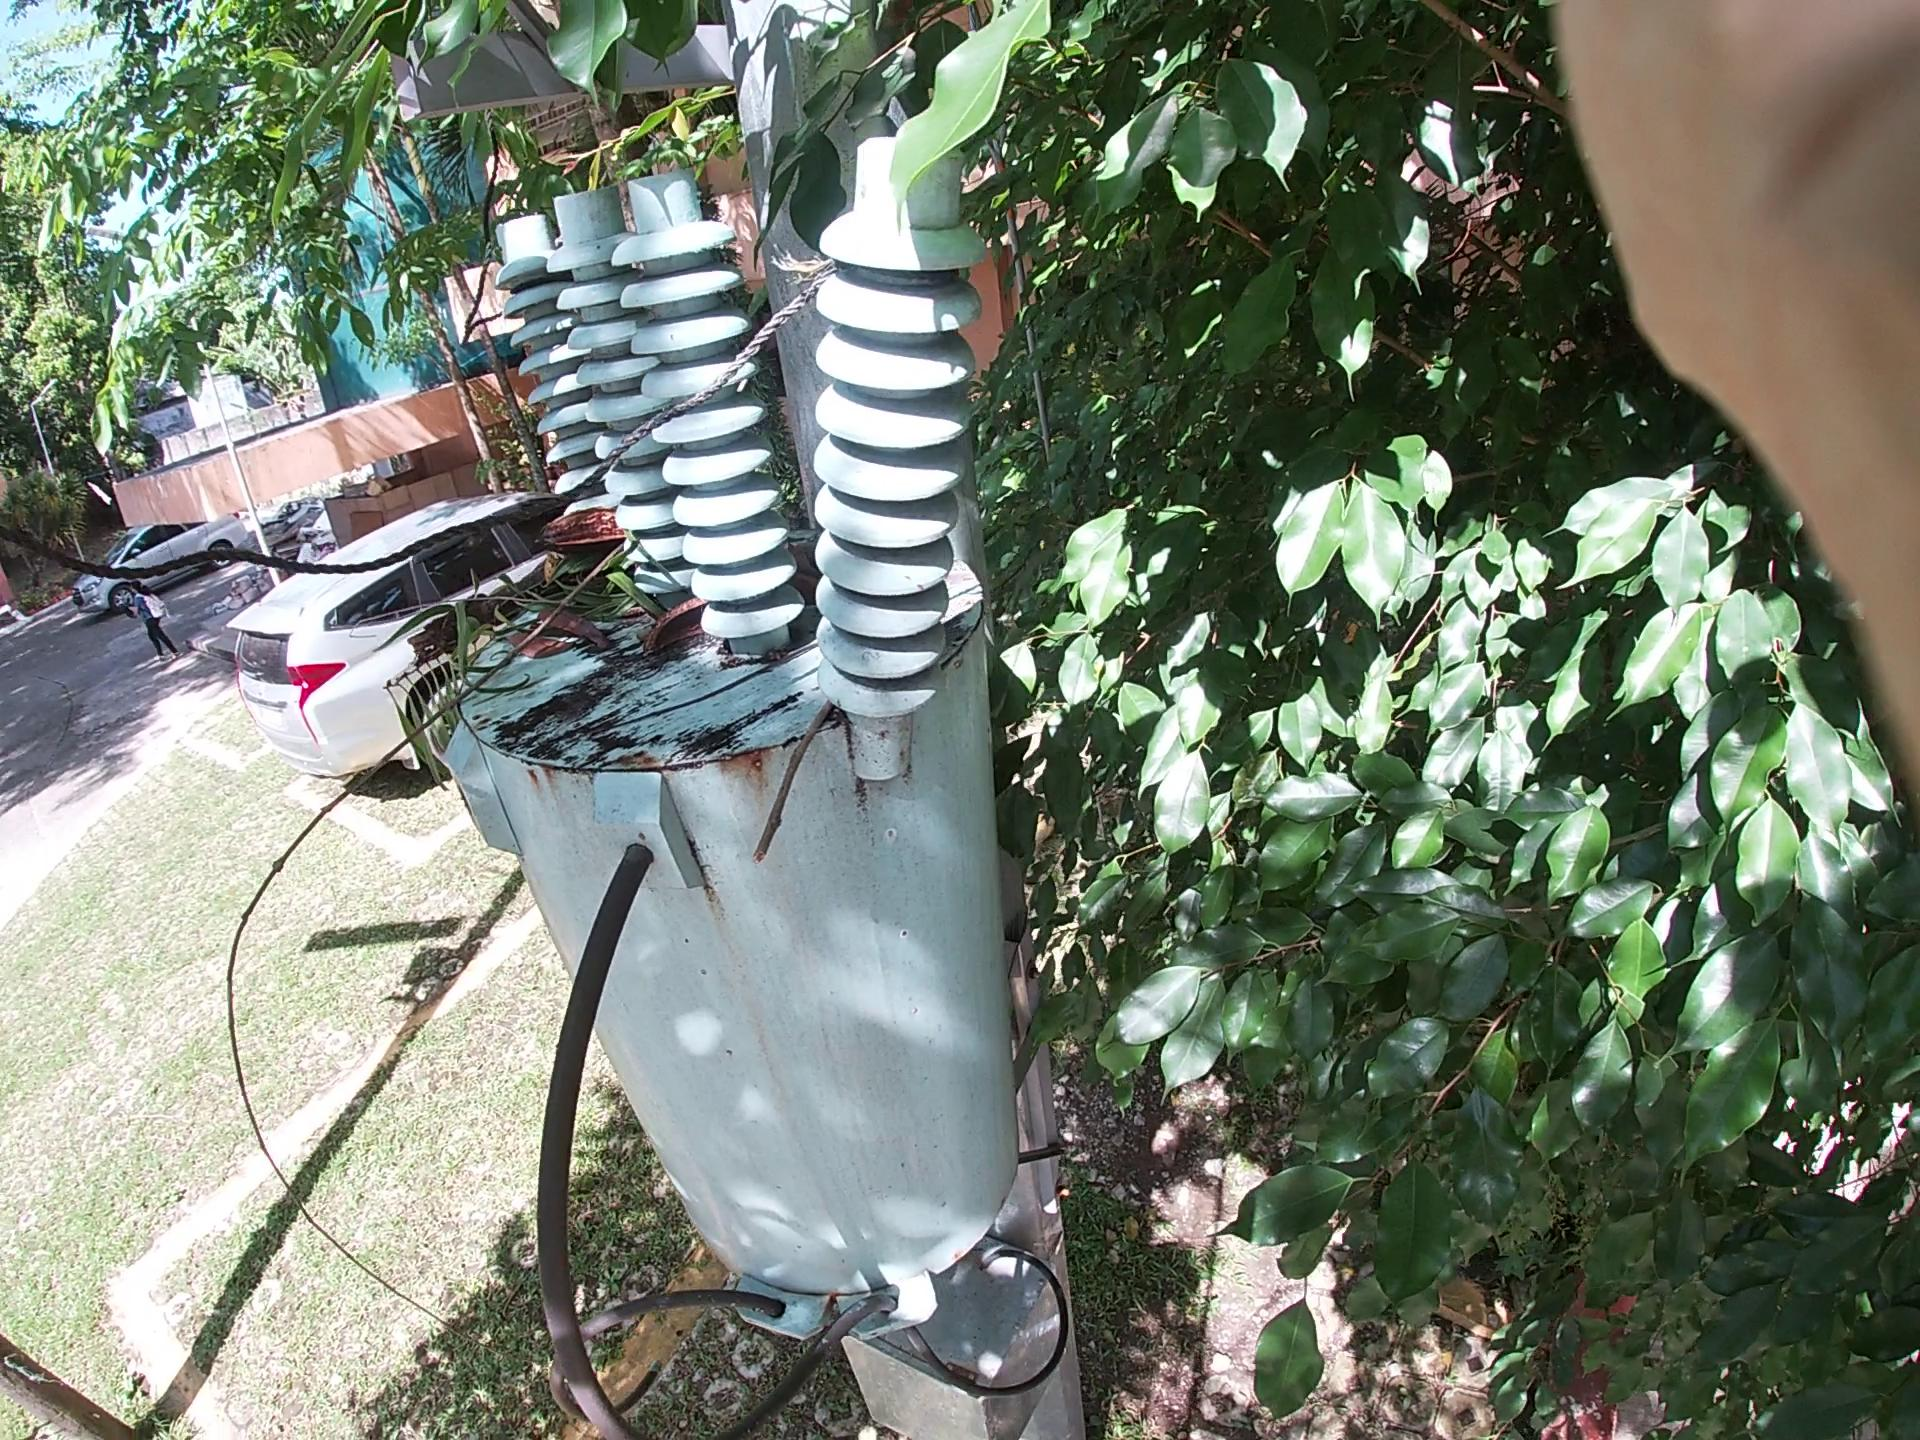branch with leaves: (410, 452, 658, 644)
leaf: (505, 584, 614, 655)
mahogany fruit: (632, 582, 768, 675), (514, 495, 641, 591)
tree branch: (194, 511, 636, 905), (735, 646, 816, 906)
